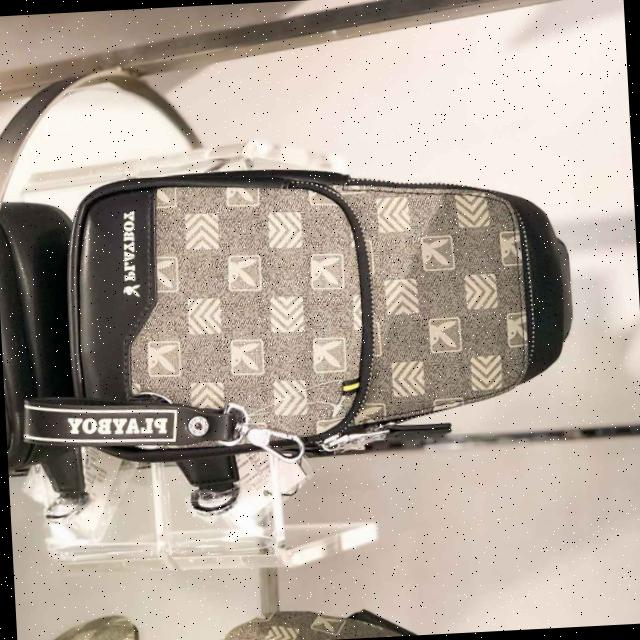Handbag: (53, 154, 583, 492)
